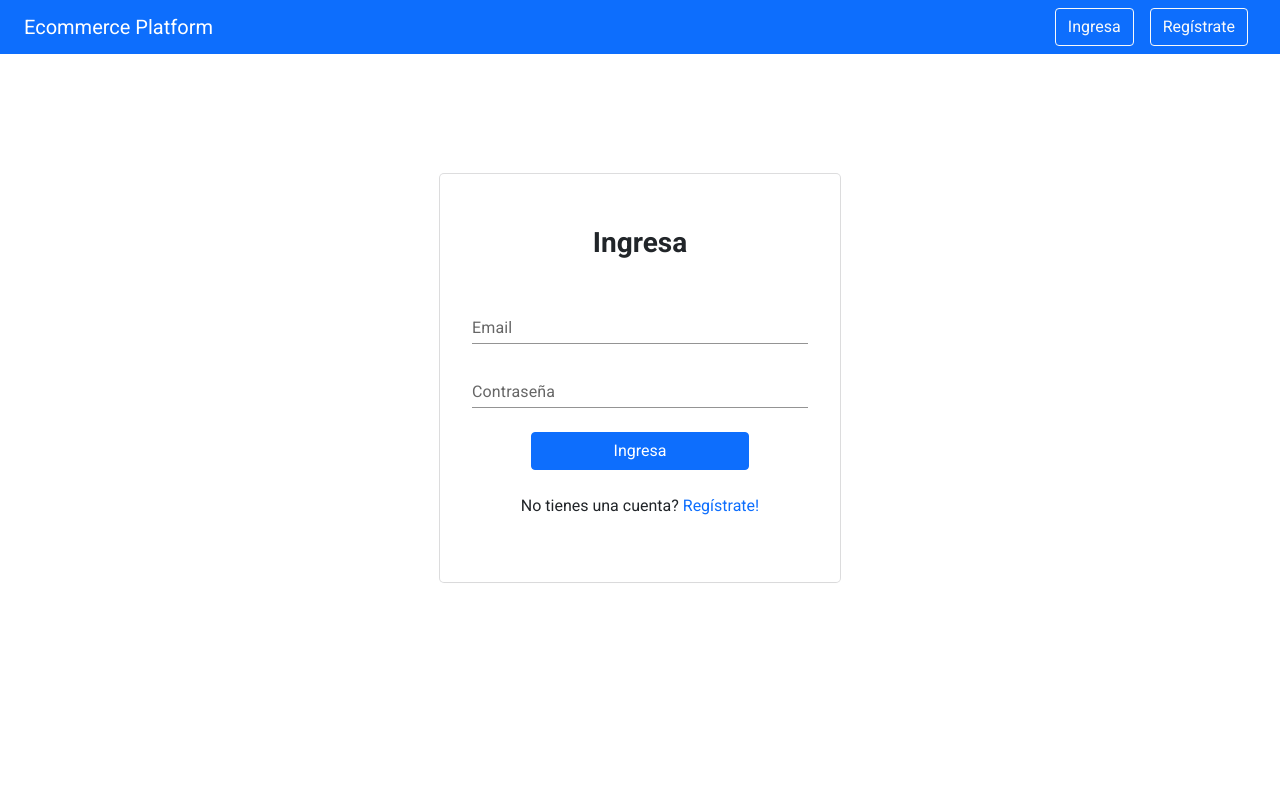
Login Page › valdiates form - invalid email
This screenshot has width=1280, height=800.
Type "the_text" into the field labelled "Email". click: [640, 328]
box: [472,312,808,344]
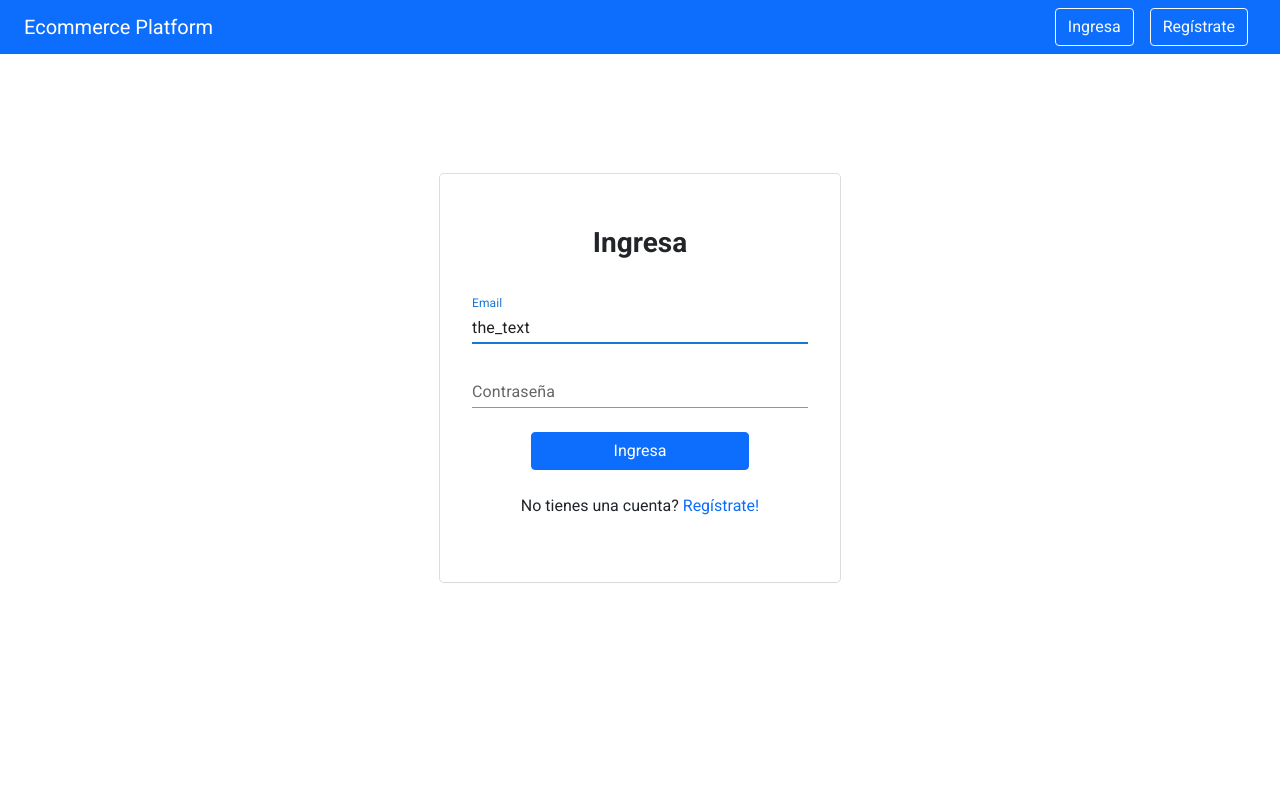
Click the button "Ingresa" below "Contraseña". click: [640, 451]
box: [531,432,749,470]
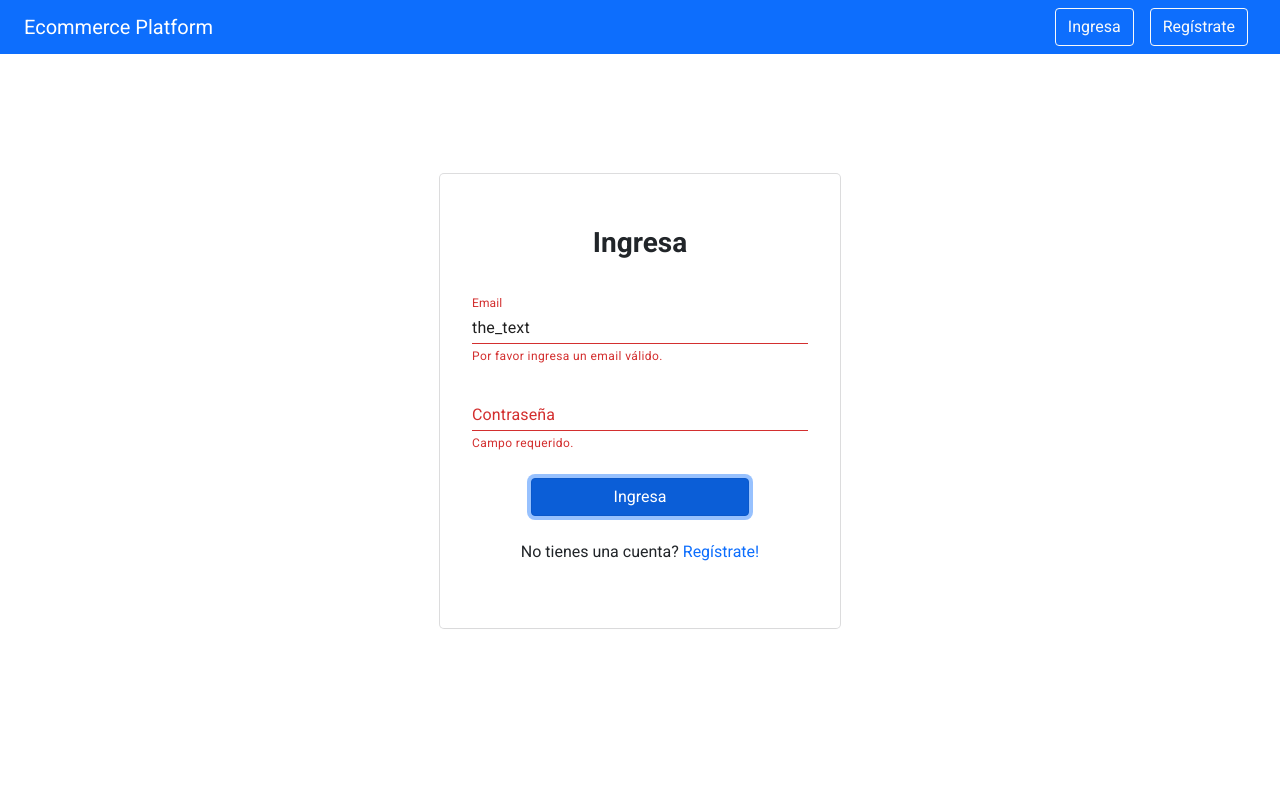
Check: the text "Por favor ingresa un email válido." is shown, box [472,349,663,363]
